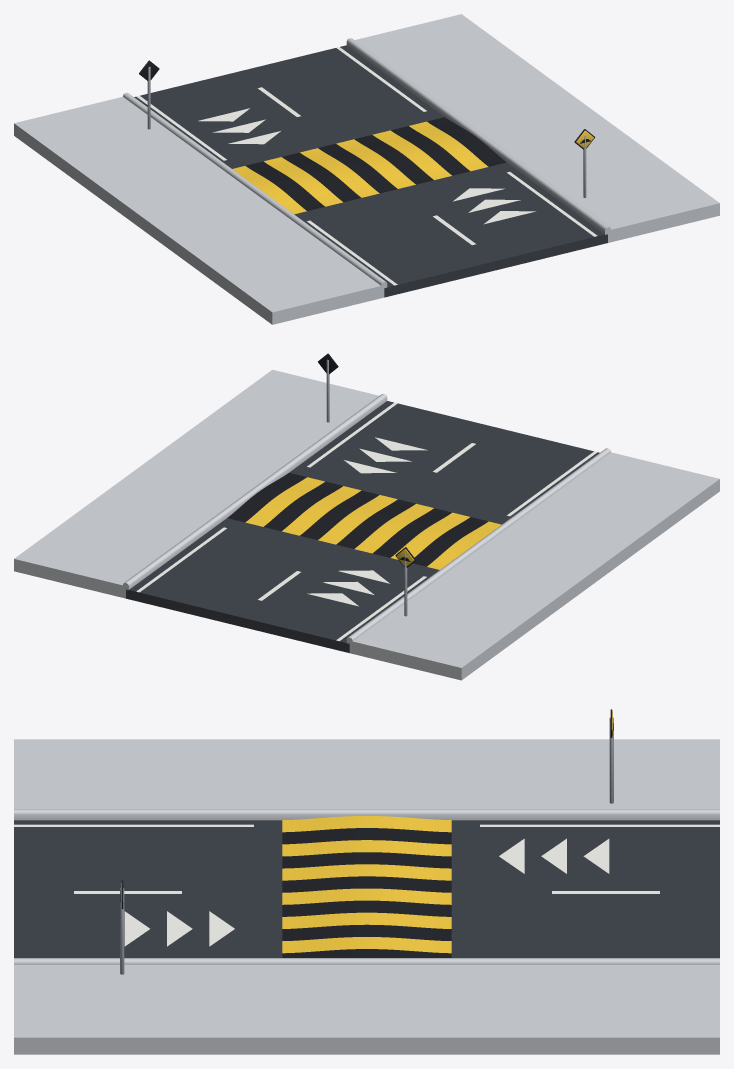
File: rua_lombada.glb
3 views of the same model, one above another, from view 1: azimuth 30°, elevation 25°; view 2: azimuth 150°, elevation 25°; view 3: azimuth 270°, elevation 25° (orthographic). The views are drawn at different scales.
Visible parts, largest first — view 1: rua_lombada; view 2: rua_lombada; view 3: rua_lombada.
Boxes of the visible parts, left/top/right/bottom form: rua_lombada: left=14, top=14, right=719, bottom=324; rua_lombada: left=14, top=353, right=719, bottom=680; rua_lombada: left=14, top=709, right=719, bottom=1054.
Size of the model in its own units: 15 by 2.59 by 15.
1 material, 1 textured.
